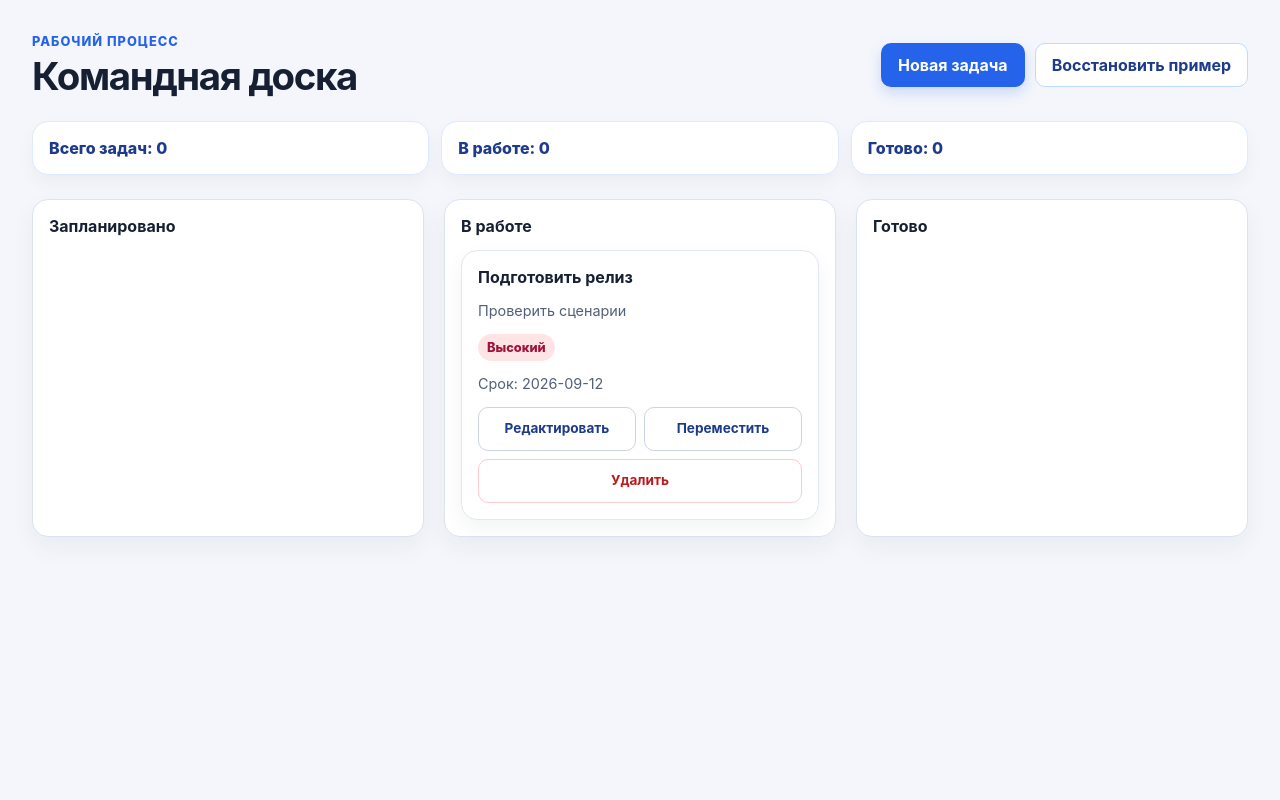
Scenario: App › shows an error and keeps the dialog open when saving fails
Expected: the heading "Подготовить релиз" is shown, [478, 267, 633, 287]
Click the button "Новая задача". click: (953, 65)
box: [881, 43, 1025, 87]
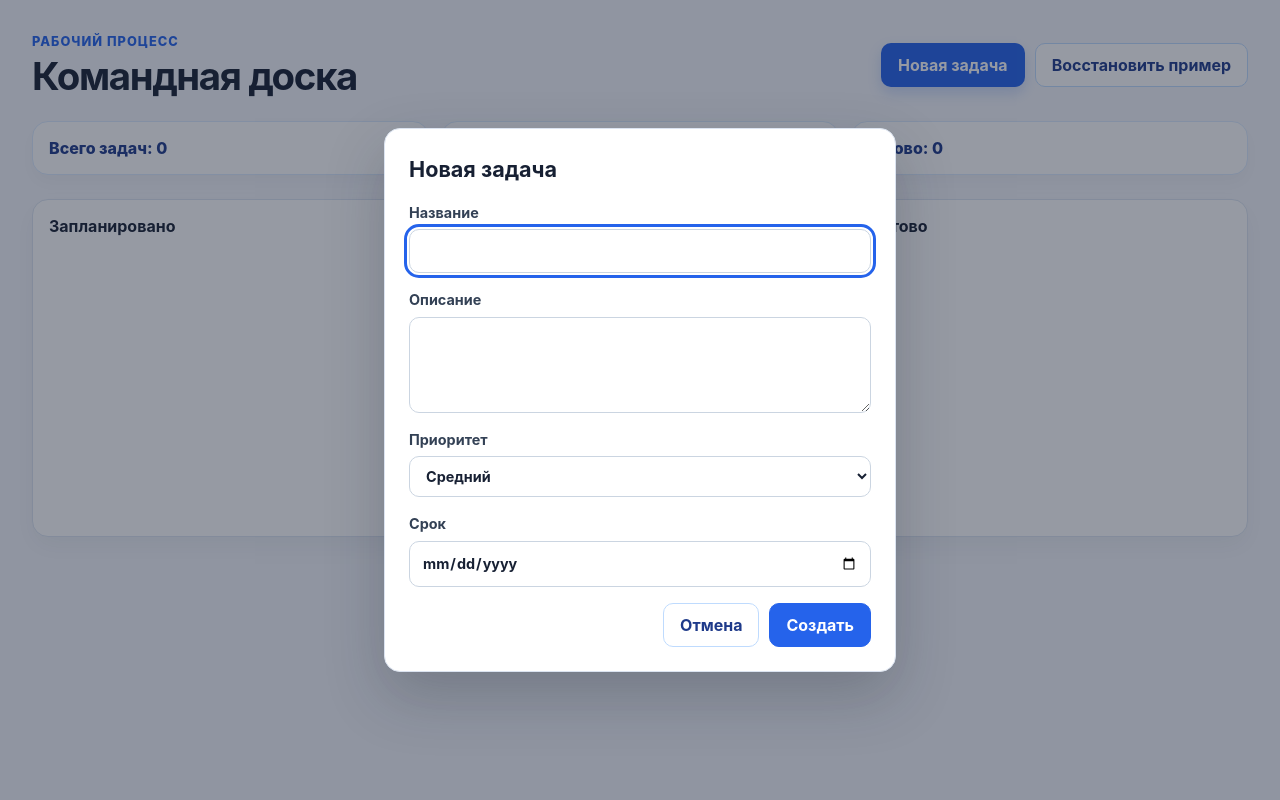
Type "Новая задача" into the field labelled "Название". click: (640, 251)
box: [409, 230, 871, 273]
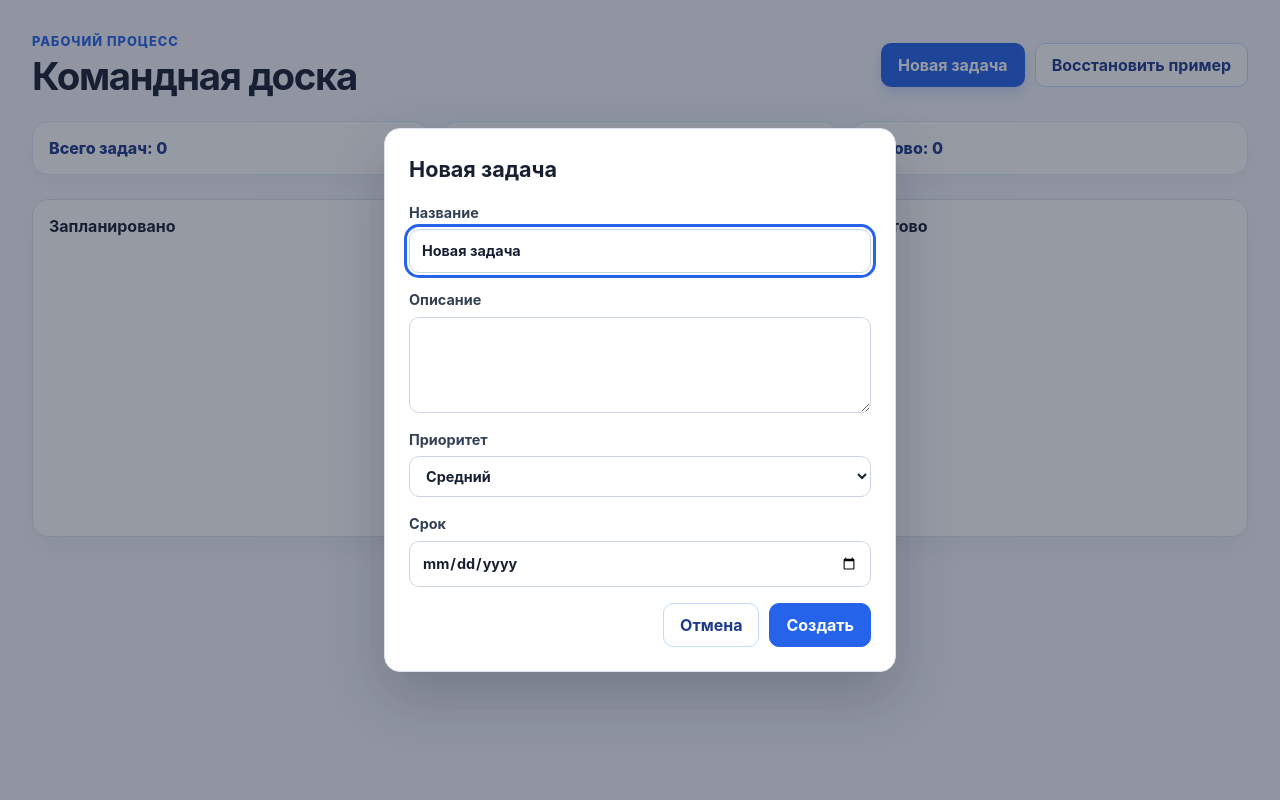
Click the button "Создать". click: (820, 624)
box: [770, 602, 871, 646]
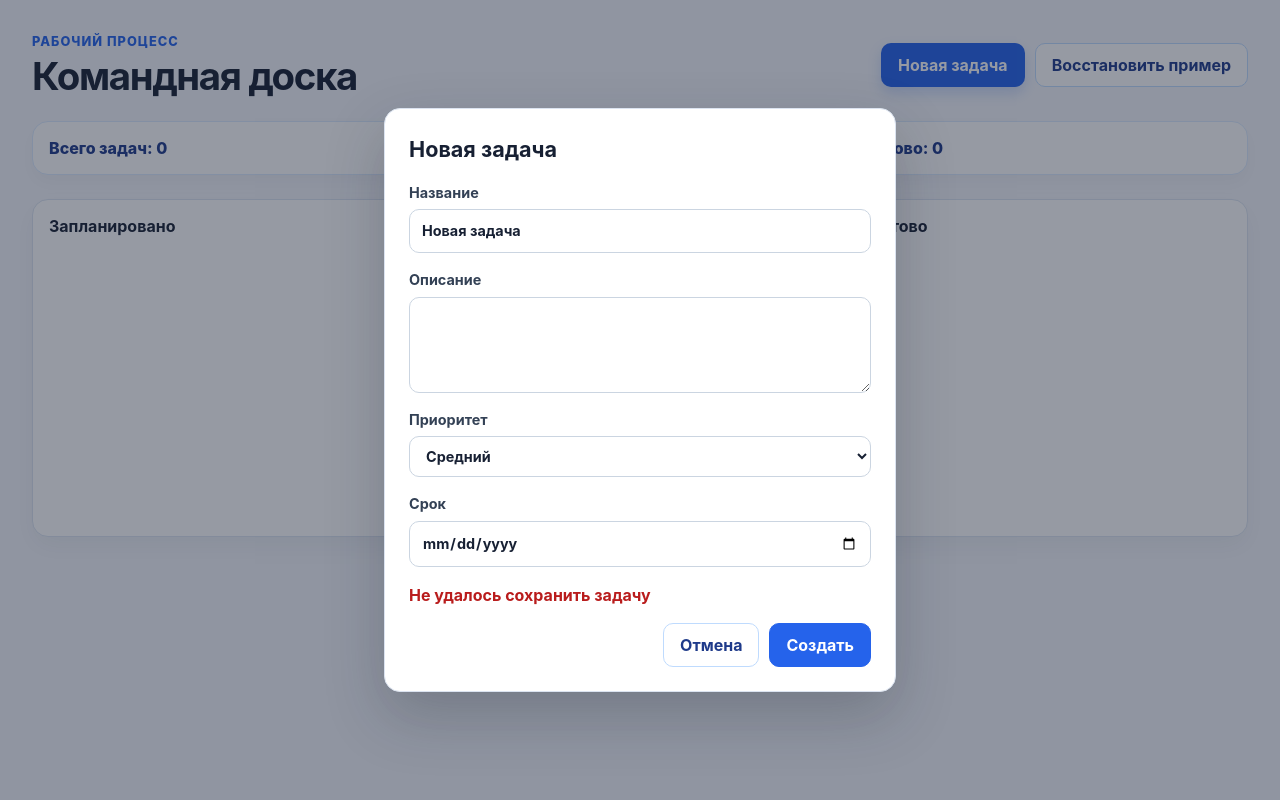
Expected: the dialog "Новая задача" is shown, [384, 108, 896, 692]
Expected: the message reads "Не удалось сохранить задачу", [409, 584, 651, 604]
